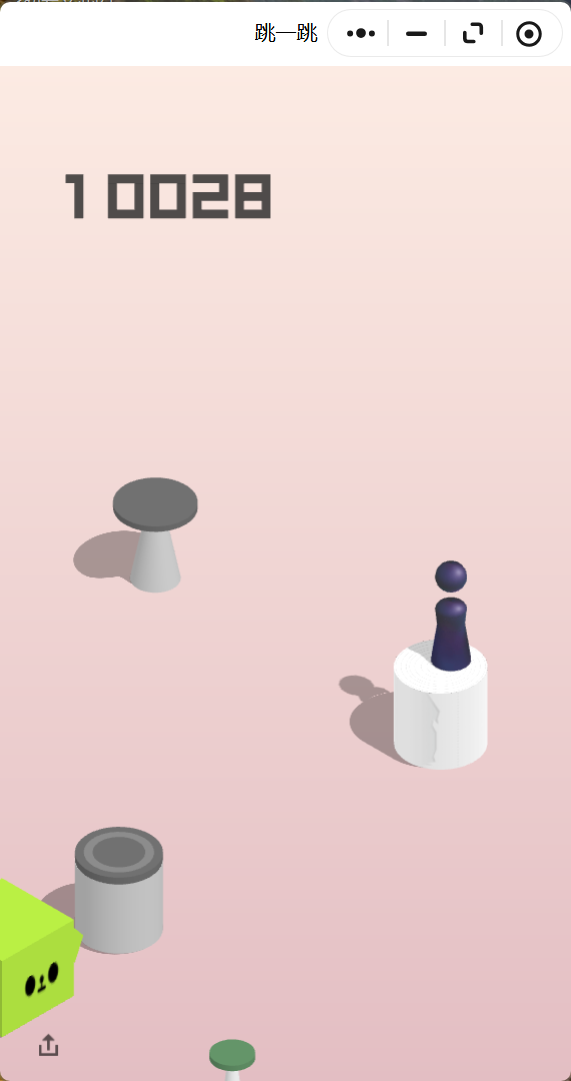piece: (436, 561, 466, 667)
target: (114, 478, 198, 525)
